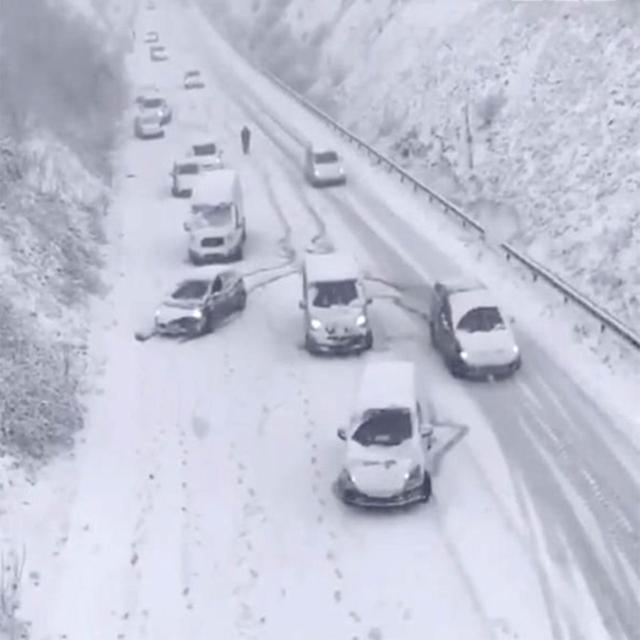Car: (334, 361, 431, 505), (433, 270, 520, 379), (154, 270, 250, 332), (305, 142, 346, 187)
Van: (298, 252, 374, 355), (185, 168, 246, 264)
